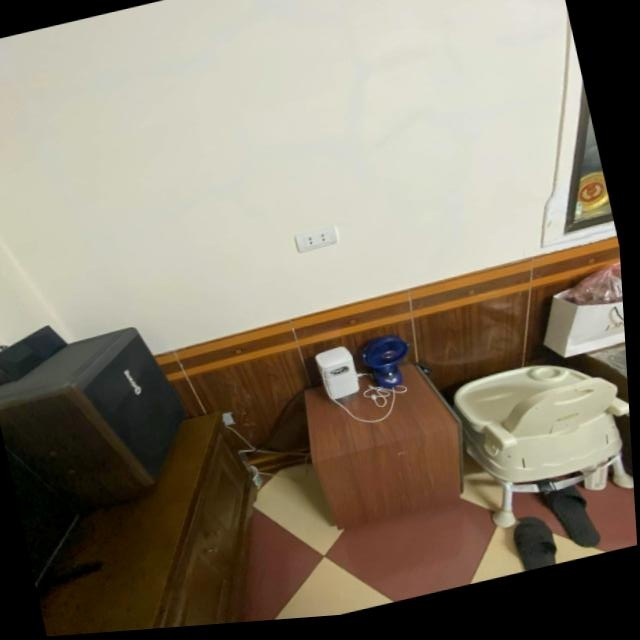outlet: (294, 226, 339, 254)
